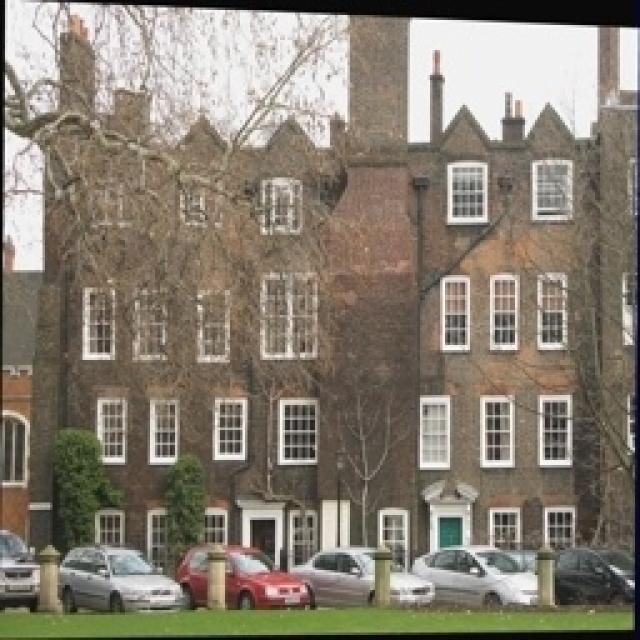building: (60, 47, 640, 565)
